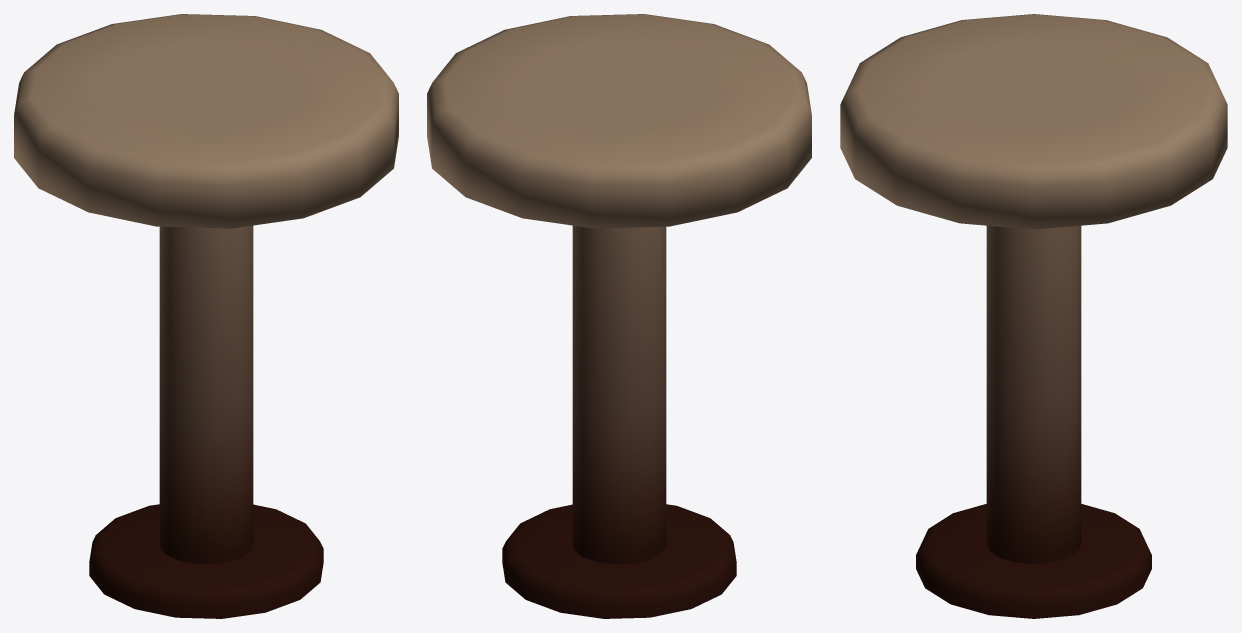
File: Chess_Chair.fbx
3 renders of one model, left to right at view 1: azimuth 30°, elevation 25°; view 2: azimuth 150°, elevation 25°; view 3: azimuth 270°, elevation 25°, orthographic.
Visible parts, largest first — view 1: Chess_Chair; view 2: Chess_Chair; view 3: Chess_Chair.
Part boxes in pixels (box(x1,y1,x2,y2)): Chess_Chair: box(14, 14, 398, 618); Chess_Chair: box(427, 14, 811, 618); Chess_Chair: box(840, 14, 1227, 618).
Bounding box in the file's own units: 0.4001 × 0.547 × 0.4001.
